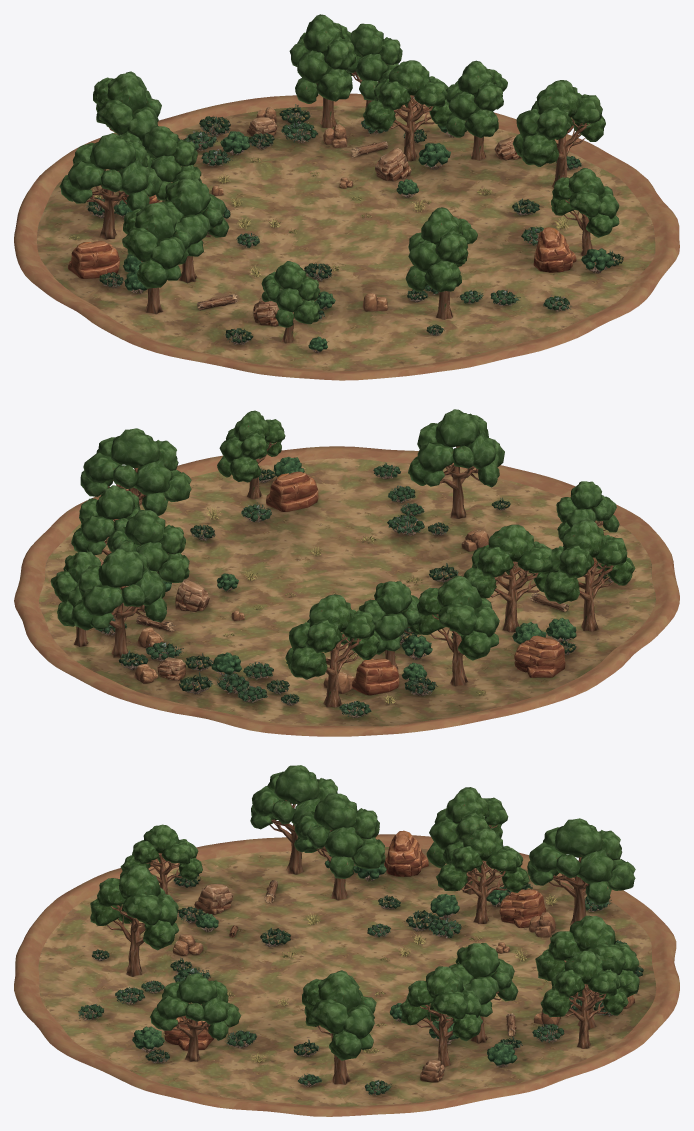
The model's file is savanna.glb.
3 views of the same model, one above another, from view 1: azimuth 30°, elevation 25°; view 2: azimuth 150°, elevation 25°; view 3: azimuth 270°, elevation 25° (orthographic).
Parts seen in each view (by area): view 1: ground, merged_Tree, merged_Arbusto3, merged_Arbusto2, merged_Arbusto1, merged_Large_Boulder, merged_Medium_Boulder, merged_Cluster, merged_Fallen_Log, merged_Tall_Grass_Tuft; view 2: ground, merged_Tree, merged_Large_Boulder, merged_Arbusto1, merged_Arbusto3, merged_Arbusto2, merged_Cluster, merged_Medium_Boulder, merged_Fallen_Log; view 3: ground, merged_Tree, merged_Arbusto1, merged_Large_Boulder, merged_Arbusto2, merged_Arbusto3, merged_Cluster, merged_Medium_Boulder, merged_Tall_Grass_Tuft.
Part boxes in pixels (bbox=[...]): ground: bbox=[14, 93, 679, 380]; merged_Tree: bbox=[59, 14, 619, 343]; merged_Arbusto3: bbox=[86, 104, 623, 344]; merged_Arbusto2: bbox=[114, 124, 613, 352]; merged_Arbusto1: bbox=[178, 119, 581, 311]; merged_Large_Boulder: bbox=[68, 195, 576, 278]; merged_Medium_Boulder: bbox=[247, 117, 521, 326]; merged_Cluster: bbox=[211, 107, 387, 311]; merged_Fallen_Log: bbox=[197, 141, 387, 310]; merged_Tall_Grass_Tuft: bbox=[93, 174, 569, 277]; ground: bbox=[14, 446, 679, 736]; merged_Tree: bbox=[50, 409, 635, 707]; merged_Large_Boulder: bbox=[266, 471, 565, 695]; merged_Arbusto1: bbox=[95, 462, 424, 718]; merged_Arbusto3: bbox=[114, 468, 613, 705]; merged_Arbusto2: bbox=[156, 456, 576, 680]; merged_Cluster: bbox=[134, 530, 489, 693]; merged_Medium_Boulder: bbox=[95, 555, 209, 680]; merged_Fallen_Log: bbox=[136, 592, 568, 631]; ground: bbox=[14, 834, 679, 1116]; merged_Tree: bbox=[90, 765, 639, 1084]; merged_Arbusto1: bbox=[78, 896, 626, 1095]; merged_Large_Boulder: bbox=[164, 830, 546, 1050]; merged_Arbusto2: bbox=[132, 855, 517, 1067]; merged_Arbusto3: bbox=[91, 864, 643, 1063]; merged_Cluster: bbox=[172, 912, 634, 1025]; merged_Medium_Boulder: bbox=[194, 884, 602, 1082]; merged_Tall_Grass_Tuft: bbox=[250, 894, 557, 1063].
Bounding box in the file's own units: 31.73 × 6.08 × 31.93.
Materials: 13 (13 with a texture image).
